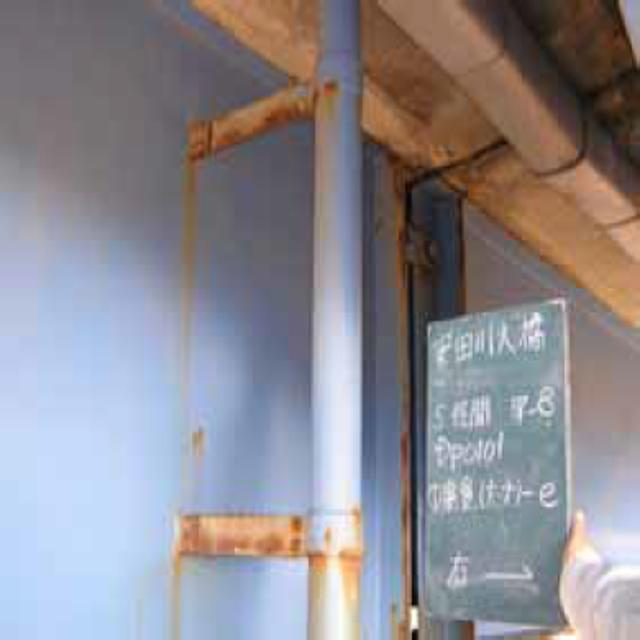corrosion: (387, 117, 497, 503), (156, 486, 386, 637), (173, 58, 328, 163)
